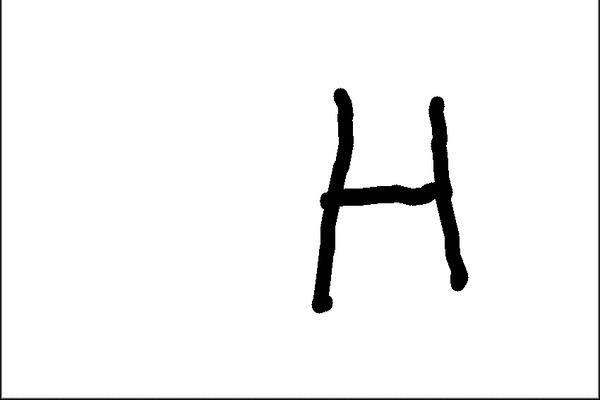H: (300, 68, 475, 319)
